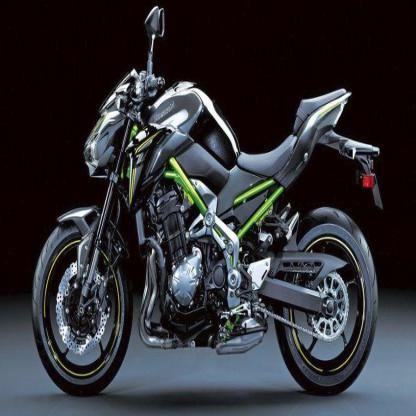Motorcycle: (23, 0, 388, 398)
